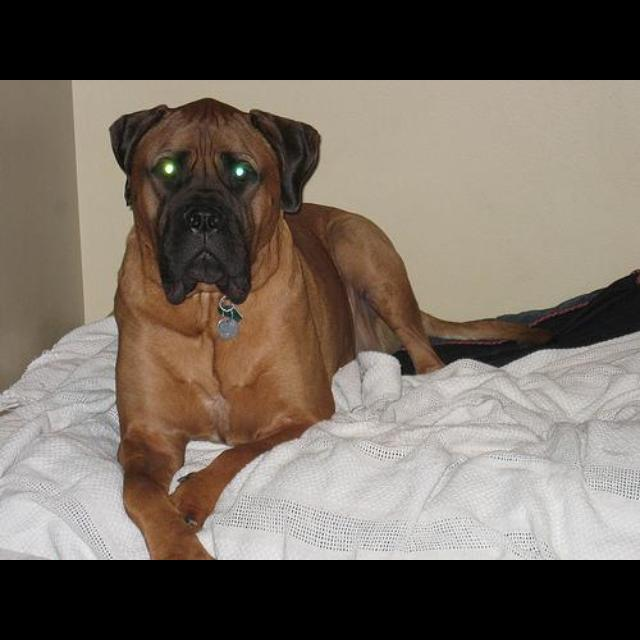bullmastiff: (108, 98, 554, 560)
